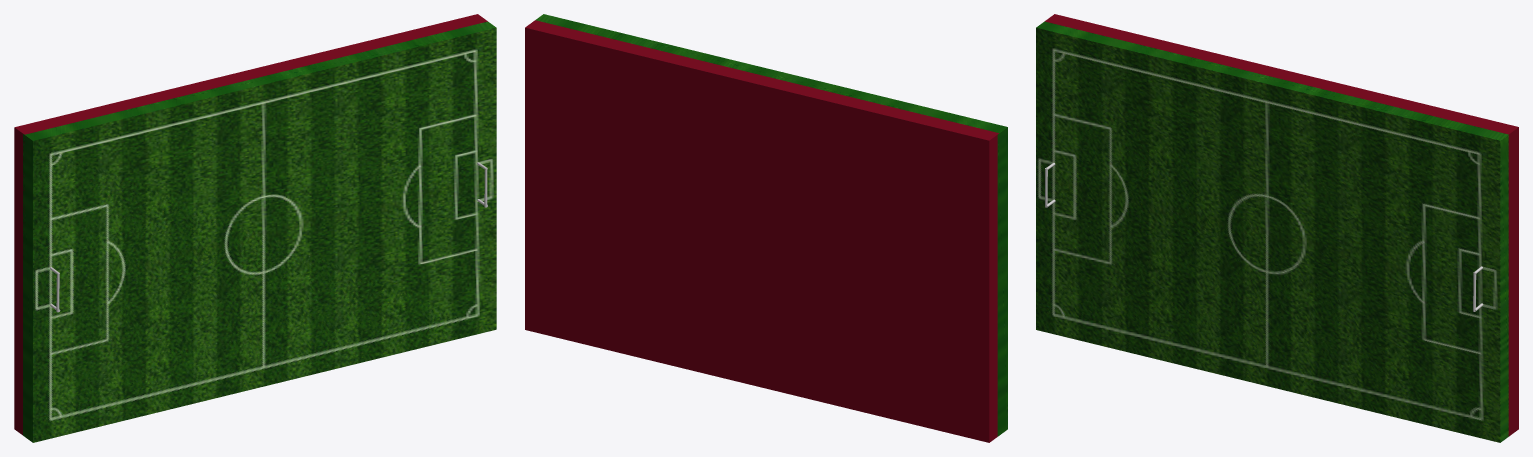
3 views of the same model, side by side, from view 1: azimuth 30°, elevation 25°; view 2: azimuth 150°, elevation 25°; view 3: azimuth 330°, elevation 25° (orthographic).
Parts seen in each view (by area): view 1: mesh_id27, mesh_id35; view 2: mesh_id35, mesh_id27; view 3: mesh_id27, mesh_id35.
Part boxes in pixels (x1,y1,x2,y2): mesh_id27: (23, 21, 496, 442); mesh_id35: (14, 14, 487, 435); mesh_id35: (525, 20, 998, 442); mesh_id27: (535, 14, 1007, 436); mesh_id27: (1036, 21, 1508, 442); mesh_id35: (1045, 14, 1518, 436).
Size of the model in its own units: 0.8382 by 0.5217 by 0.0845.
5 materials, 5 textured.
